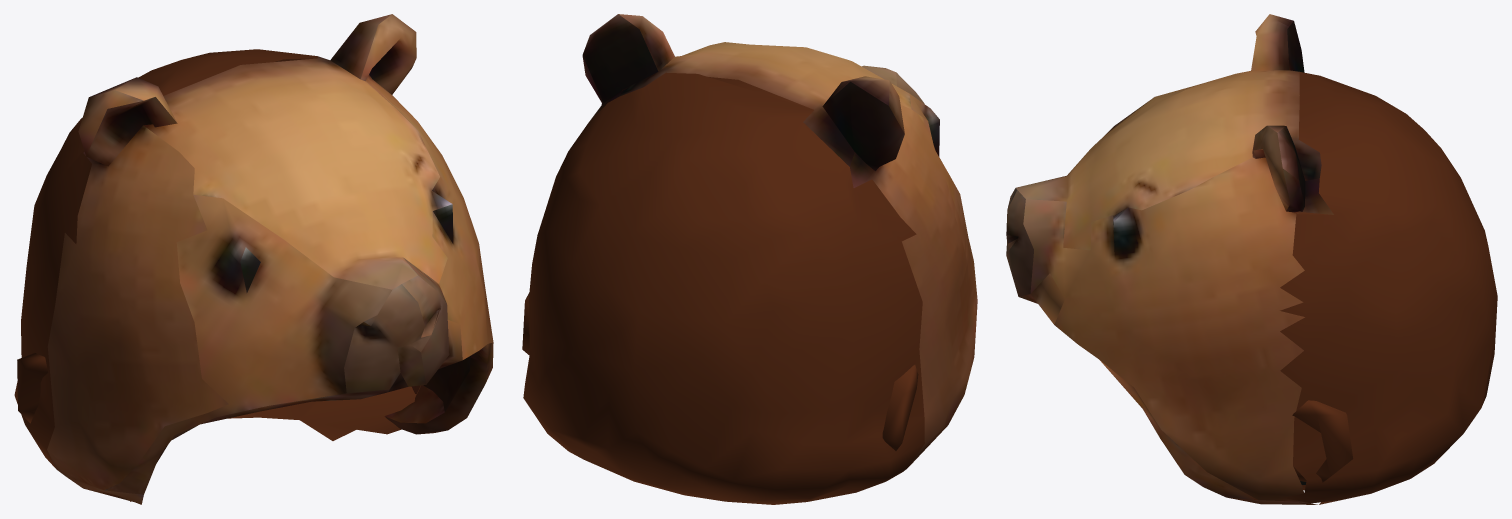
File: capybara.glb
3 views of the same model, side by side, from view 1: azimuth 30°, elevation 25°; view 2: azimuth 150°, elevation 25°; view 3: azimuth 270°, elevation 25° (orthographic). The views are drawn at different scales.
Parts seen in each view (by area): view 1: geometry_0, HoodAnatomicalLining; view 2: geometry_0, HoodAnatomicalLining; view 3: geometry_0, HoodAnatomicalLining.
Part boxes in pixels (x1=…): geometry_0: x1=14, y1=14, x2=493, y2=504; HoodAnatomicalLining: x1=17, y1=353, x2=421, y2=501; geometry_0: x1=523, y1=14, x2=977, y2=504; HoodAnatomicalLining: x1=522, y1=77, x2=918, y2=450; geometry_0: x1=1006, y1=14, x2=1497, y2=504; HoodAnatomicalLining: x1=1292, y1=211, x2=1353, y2=490.
Bounding box in the file's own units: 0.466 × 0.4621 × 0.5446.
2 materials, 1 textured.
